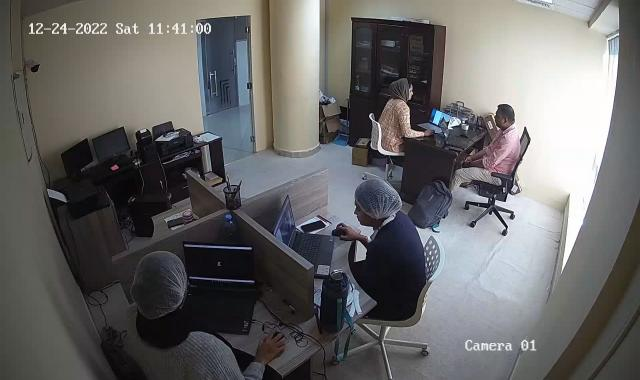hairnet: (130, 249, 187, 321), (350, 176, 402, 227)
no_hairnet: (492, 100, 517, 133), (386, 77, 414, 104)
